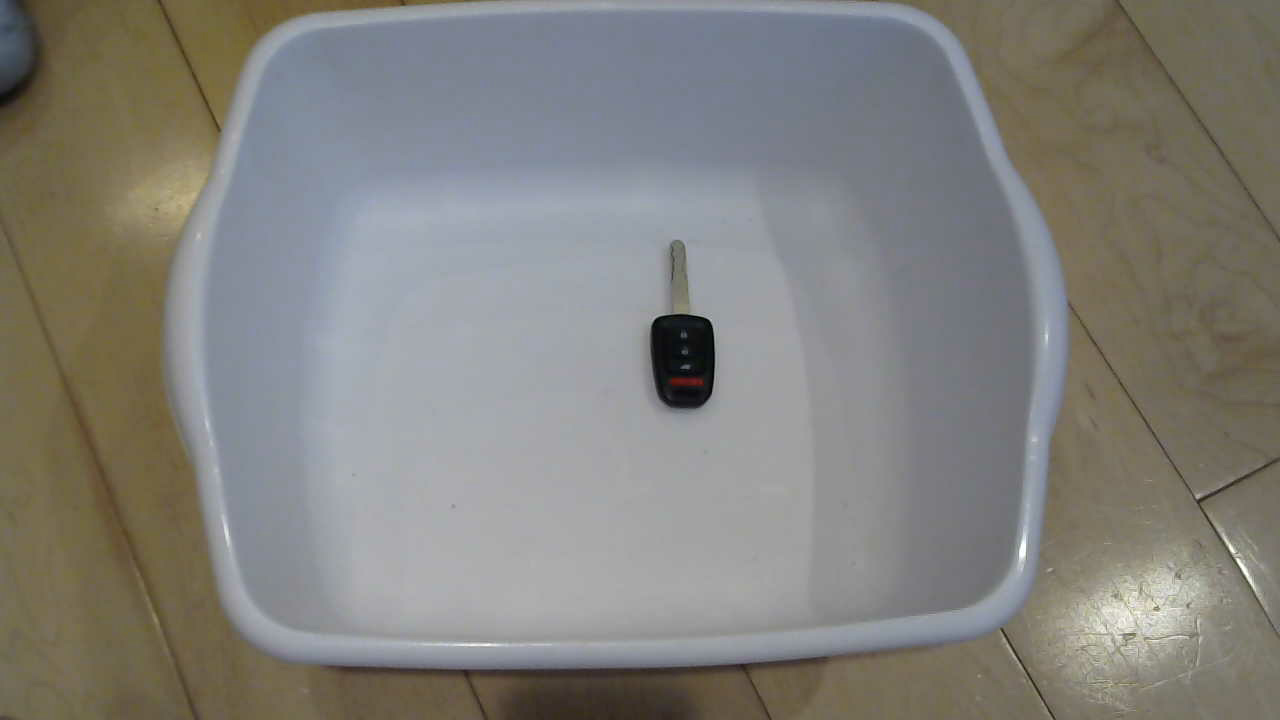key: (621, 232, 726, 431)
